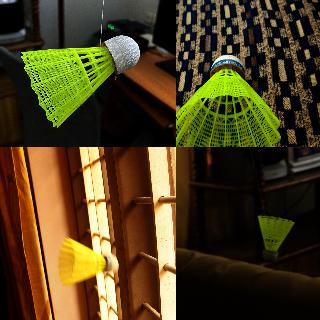shuttlecock: (21, 35, 139, 127), (176, 54, 282, 146), (58, 237, 118, 285), (258, 215, 294, 262)
